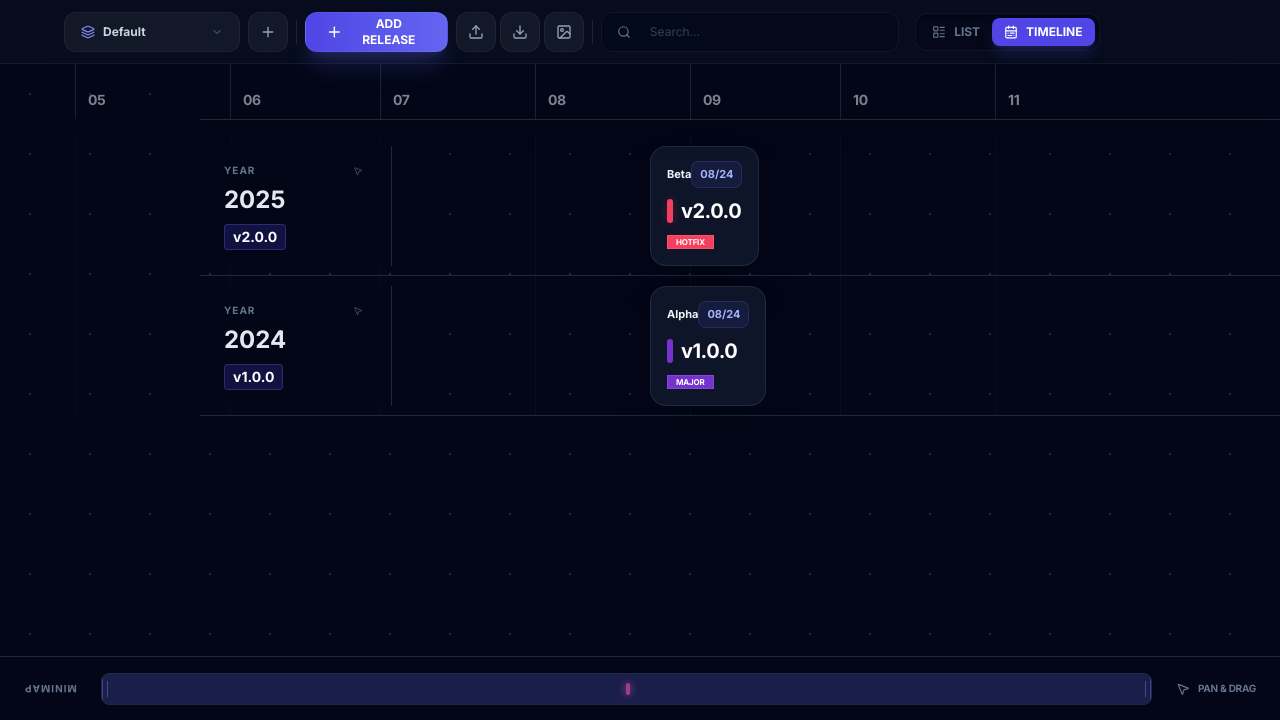
it: ReleaseHistoryPlugin Hardcore Test Suite › should handle complex search queries
This screenshot has width=1280, height=720.
Click the button "LIST". click: x=956, y=32
box: [920,18,992,46]
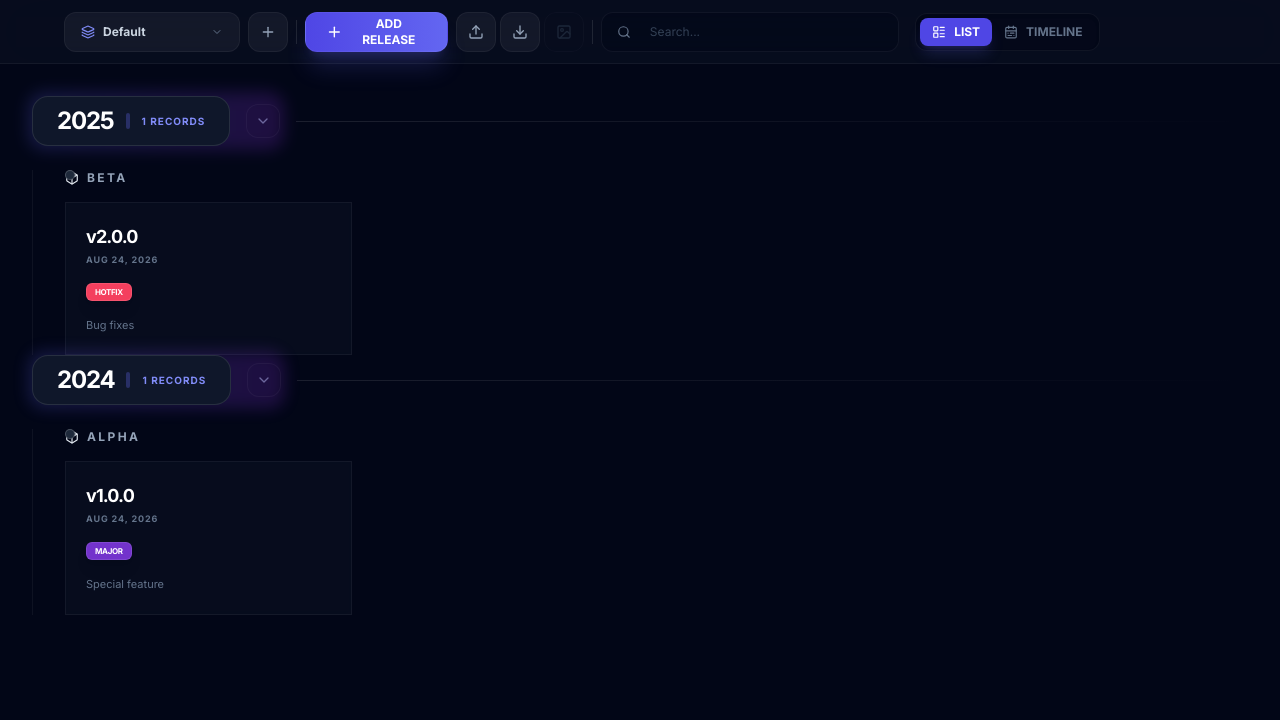
Type "Alpha" into the field with placeholder "Search...". click: x=750, y=32
box: [601,12,899,52]
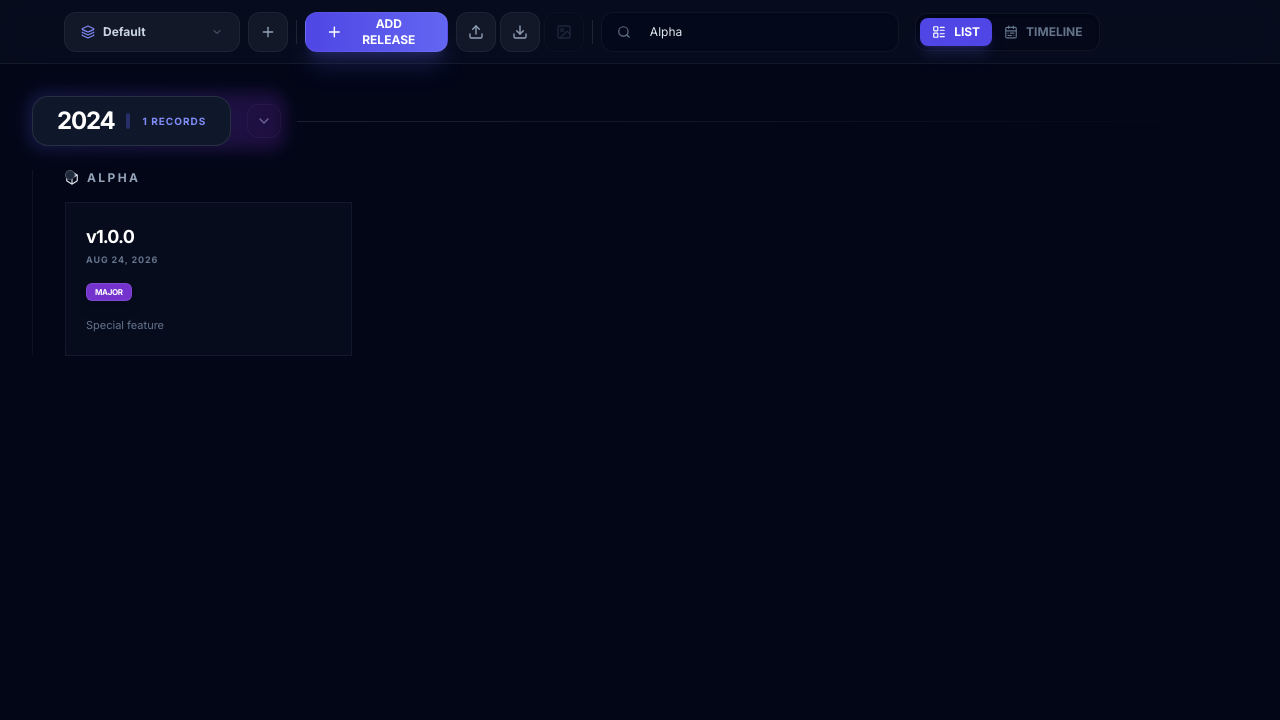
Expected: the heading "Alpha" is shown, [87,170,140,186]
Result: the heading "Beta" is gone
Clear the field with placeholder "Search...". click: x=750, y=32
box: [601,12,899,52]
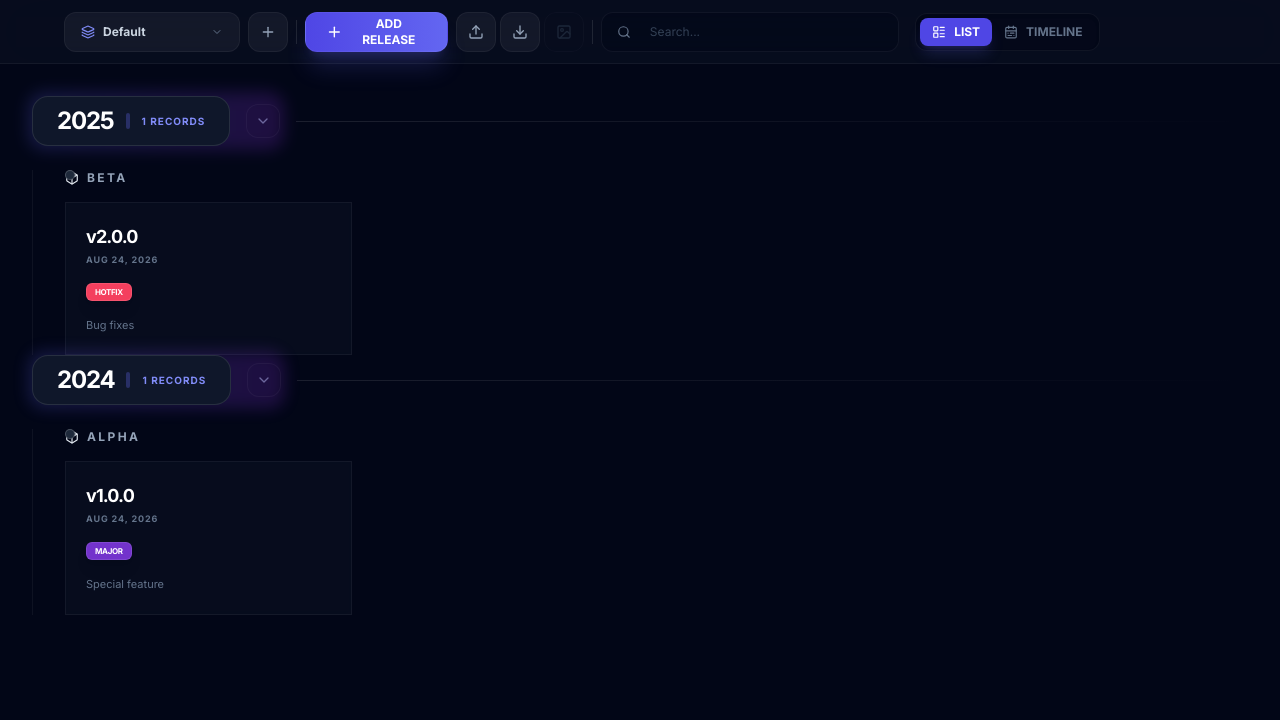
Result: the heading "Beta" is shown at [87,170,128,186]
